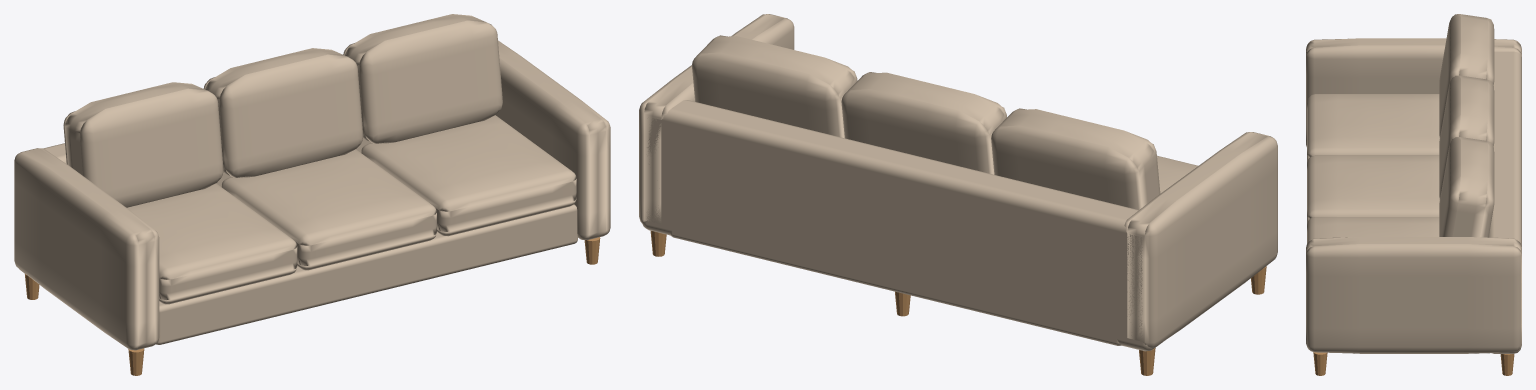
Rendered from sofa_3seat.glb.
3 views of the same model, side by side, from view 1: azimuth 30°, elevation 25°; view 2: azimuth 150°, elevation 25°; view 3: azimuth 270°, elevation 25° (orthographic). The views are drawn at different scales.
Parts seen in each view (by area): view 1: sofa_3seat; view 2: sofa_3seat; view 3: sofa_3seat.
Part boxes in pixels (left/top/right/bottom): sofa_3seat: left=14, top=14, right=610, bottom=375; sofa_3seat: left=639, top=14, right=1277, bottom=375; sofa_3seat: left=1306, top=14, right=1521, bottom=375.
Bounding box in the file's own units: 2.1 × 0.82 × 0.9.
